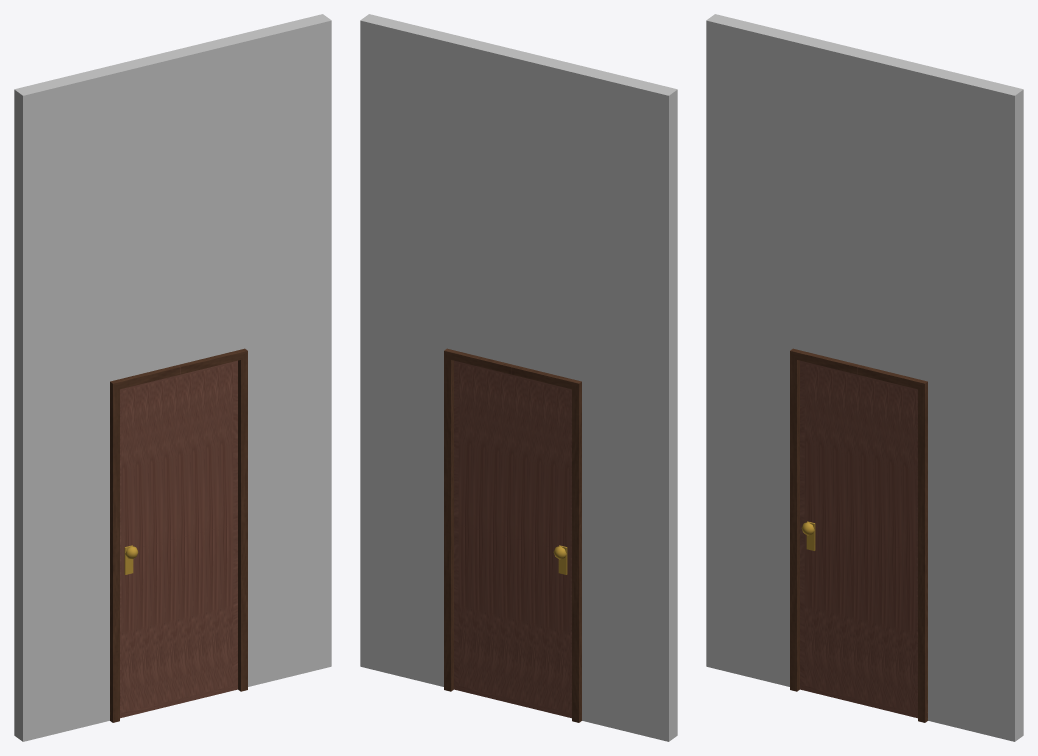
The model's file is BR_ToiletDoor.fbx.
3 views of the same model, side by side, from view 1: azimuth 30°, elevation 25°; view 2: azimuth 150°, elevation 25°; view 3: azimuth 330°, elevation 25° (orthographic).
Visible parts, largest first — view 1: BR_ToiletDoorFrame, BR_ToiletDoor; view 2: BR_ToiletDoorFrame, BR_ToiletDoor; view 3: BR_ToiletDoorFrame, BR_ToiletDoor.
Boxes of the visible parts, x1,y1,x2,y2 form: BR_ToiletDoorFrame: (14,14,331,741); BR_ToiletDoor: (120,360,237,718); BR_ToiletDoorFrame: (360,14,677,741); BR_ToiletDoor: (454,360,571,718); BR_ToiletDoorFrame: (706,14,1023,741); BR_ToiletDoor: (800,360,917,718).
Size of the model in its own units: 200 by 400 by 23.6.
